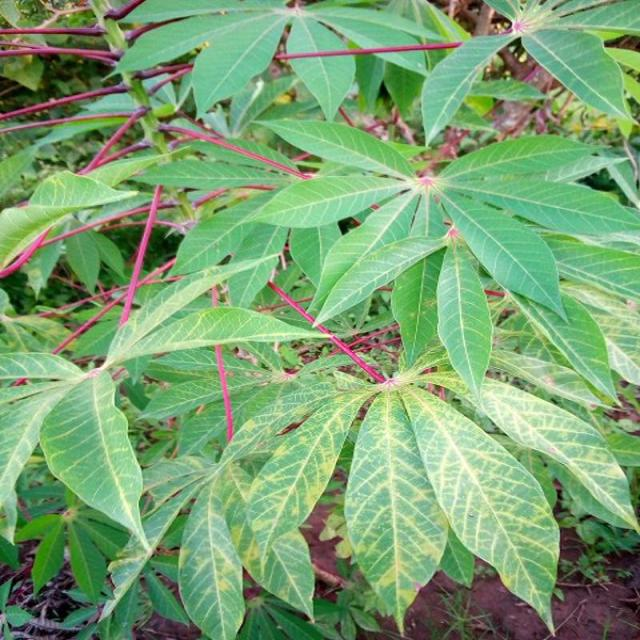cassava leaf: (1, 1, 638, 638), (399, 383, 561, 635), (343, 386, 450, 634), (38, 368, 150, 554)
